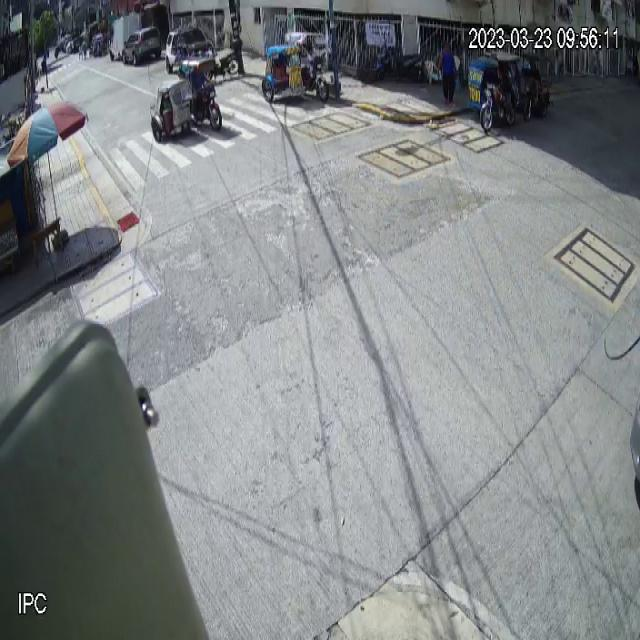Tricycle: (150, 56, 223, 144), (261, 32, 330, 102), (468, 52, 522, 131)
